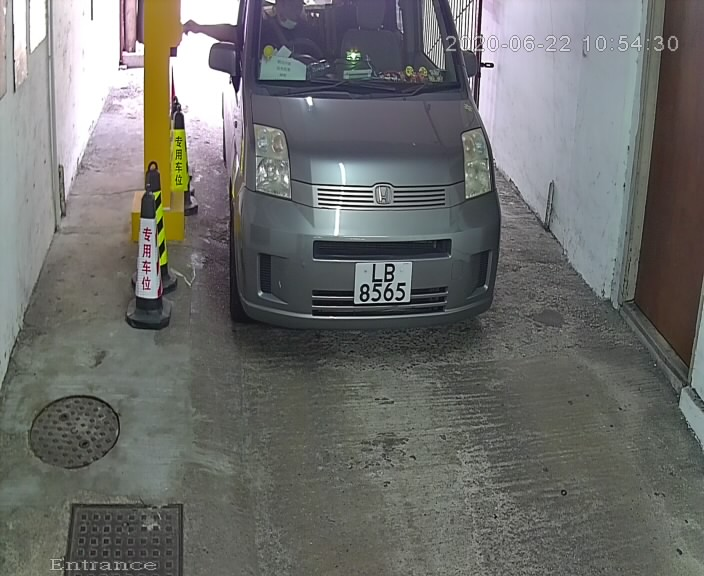privatecar: (197, 2, 543, 354)
